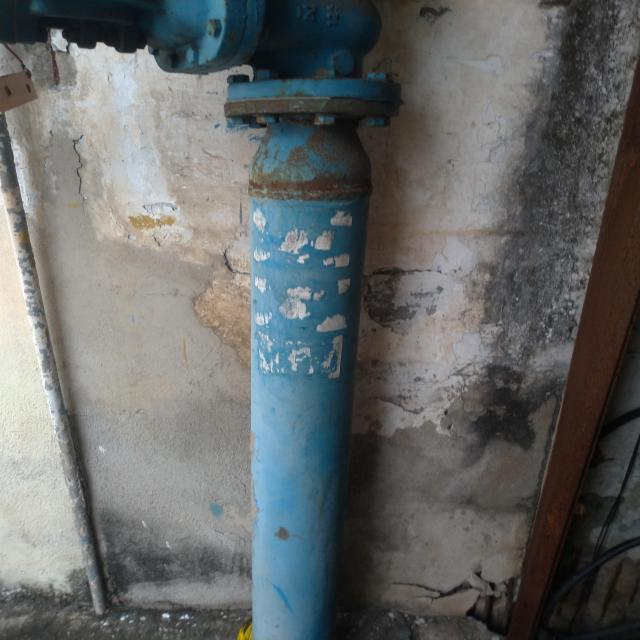gas: (227, 3, 401, 640)
